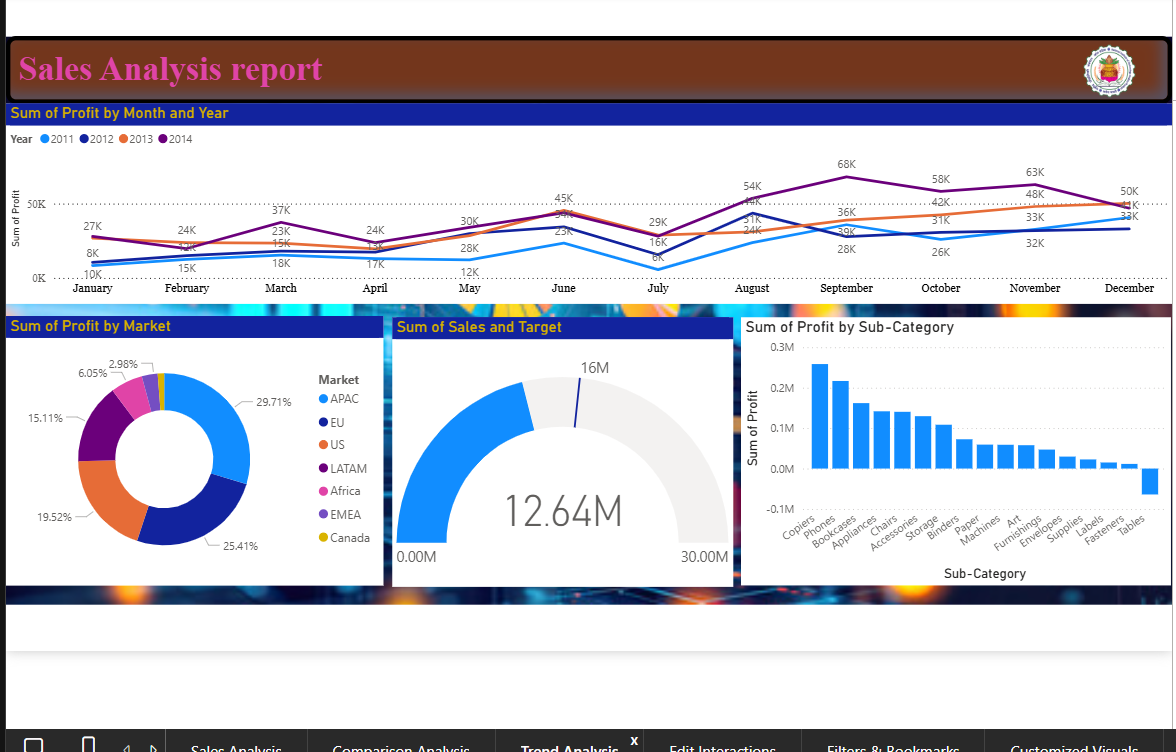

The dashboard page shown, as its layout file describes it:
{"tool":"powerbi","page":{"name":"Trend Analysis","canvas":[1280,720],"ordinal":2},"visuals":[{"type":"textbox","box":[0,43.9,1280.3,74.1],"z":0},{"type":"image","box":[1141.7,46.7,138.6,71.4],"z":1000},{"type":"lineChart","fields":{"Y":["Sum(Orders.Profit)"],"Category":["Orders.Order Date.Variation.Date Hierarchy.Month"],"Series":["Orders.Order Date.Variation.Date Hierarchy.Year"]},"box":[0,117.8,1279.8,219.6],"z":2000},{"type":"donutChart","fields":{"Category":["Orders.Market"],"Y":["Sum(Orders.Profit)"]},"box":[0,350.9,414.7,295.7],"z":3000},{"type":"gauge","fields":{"Y":["Sum(Orders.Sales)"],"TargetValue":["Orders.Target"]},"box":[424.5,352.1,374.2,295.7],"z":4000},{"type":"clusteredColumnChart","fields":{"Category":["Orders.Sub-Category"],"Y":["Sum(Orders.Profit)"]},"box":[807.4,352.1,472.4,294.5],"z":5000}]}

Visuals, with their boxes on the page's 1280x720 design canvas (x1, y1, x2, y2). These are canvas units, not pixel positions in the 1176x752 screenshot, which may show the page scaled, cropped or inside an application window:
textbox: 0 44 1280 118
image: 1142 47 1280 118
lineChart - Sum(Orders.Profit) x Orders.Order Date.Variation.Date Hierarchy.Month: 0 118 1280 337
donutChart - Orders.Market x Sum(Orders.Profit): 0 351 415 647
gauge - Sum(Orders.Sales) x Orders.Target: 424 352 799 648
clusteredColumnChart - Orders.Sub-Category x Sum(Orders.Profit): 807 352 1280 647
